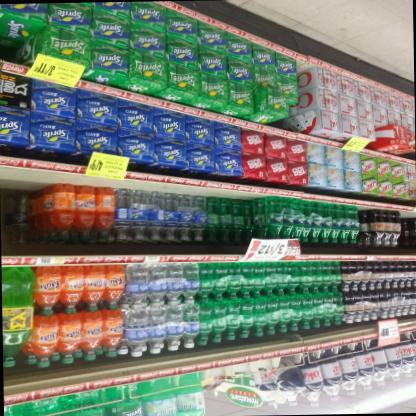empty_space: (202, 356, 272, 410), (0, 165, 30, 194)
